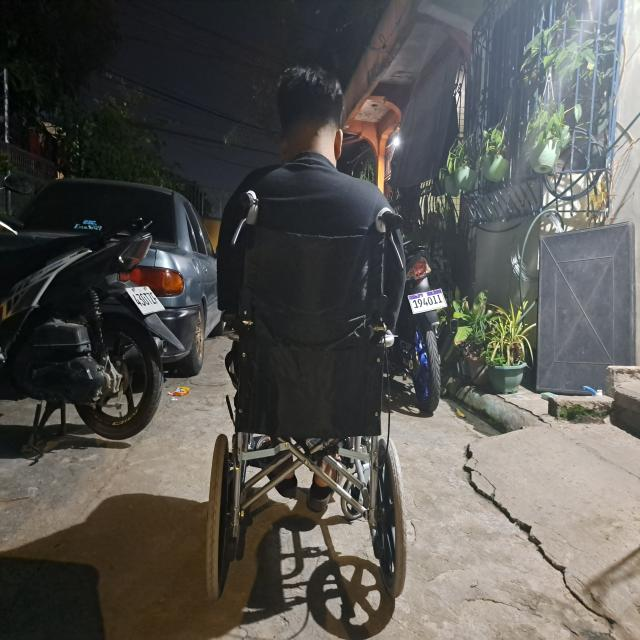wheelchairs: (200, 188, 419, 606)
